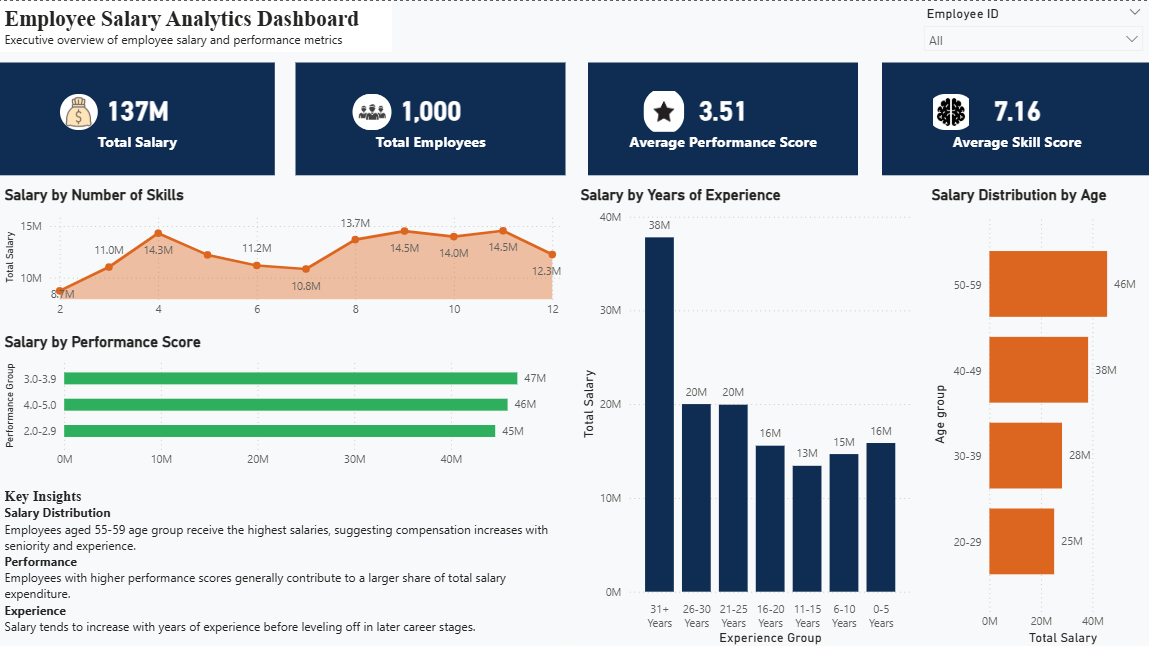

This screenshot's page, from the dashboard's own definition file:
{"tool":"powerbi","page":{"name":"Employee Salary Analytics Dashboard","canvas":[1280,720],"ordinal":1},"visuals":[{"type":"card","fields":{"Values":["employee_salary_regression.Total Salary"]},"box":[0,68.3,305,125],"z":0},{"type":"card","fields":{"Values":["employee_salary_regression.Total Employee","select"]},"box":[328.3,68.3,300,125],"z":1000},{"type":"card","fields":{"Values":["employee_salary_regression.A.V Performance Score"]},"box":[653.3,68.3,300,125],"z":2000},{"type":"card","fields":{"Values":["employee_salary_regression.Average skill"]},"box":[980,68.3,300,125],"z":3000},{"type":"slicer","fields":{"Values":["employee_salary_regression.Employee ID"]},"box":[1016.7,0,263.3,56.7],"z":4000},{"type":"barChart","title":"Salary Distribution by Age","fields":{"Y":["employee_salary_regression.Total Salary"],"Category":["employee_salary_regression.Age group"]},"box":[1030,205,250,515],"z":5000},{"type":"areaChart","title":"Salary by Number of Skills","fields":{"Category":["employee_salary_regression.num_skills"],"Y":["employee_salary_regression.Total Salary"]},"box":[0,205,628.3,155],"z":6000},{"type":"clusteredColumnChart","title":"Salary by Years of Experience","fields":{"Y":["employee_salary_regression.Total Salary"],"Category":["employee_salary_regression.Experience Group"]},"box":[640,205,376.7,515],"z":7000},{"type":"clusteredBarChart","title":"Salary by Performance Score","fields":{"Y":["employee_salary_regression.Total Salary"],"Category":["employee_salary_regression.Performance Group"]},"box":[0,368.3,623.3,158.3],"z":8000},{"type":"textbox","box":[0,535,628.3,185],"z":9000},{"type":"textbox","box":[0,0,435,56.7],"z":10000},{"type":"image","box":[66.7,103.3,41.7,40],"z":11000},{"type":"image","box":[391.7,103.3,43.3,40],"z":12000},{"type":"image","box":[715,96.7,45,51.7],"z":13000},{"type":"image","box":[1030,103.3,53.3,40],"z":14000}]}

Visuals, with their boxes in screenshot pixels (x1, y1, x2, y2), scaled from the page's 1280x720 canvas onto the 1149x646 screenshot:
card - employee_salary_regression.Total Salary: 0/61/274/173
card - employee_salary_regression.Total Employee x select: 295/61/564/173
card - employee_salary_regression.A.V Performance Score: 586/61/856/173
card - employee_salary_regression.Average skill: 880/61/1148/173
slicer - employee_salary_regression.Employee ID: 913/0/1148/51
"Salary Distribution by Age" barChart: 925/184/1148/645
"Salary by Number of Skills" areaChart: 0/184/564/323
"Salary by Years of Experience" clusteredColumnChart: 574/184/913/645
"Salary by Performance Score" clusteredBarChart: 0/330/560/472
textbox: 0/480/564/645
textbox: 0/0/390/51
image: 60/93/97/129
image: 352/93/390/129
image: 642/87/682/133
image: 925/93/972/129
